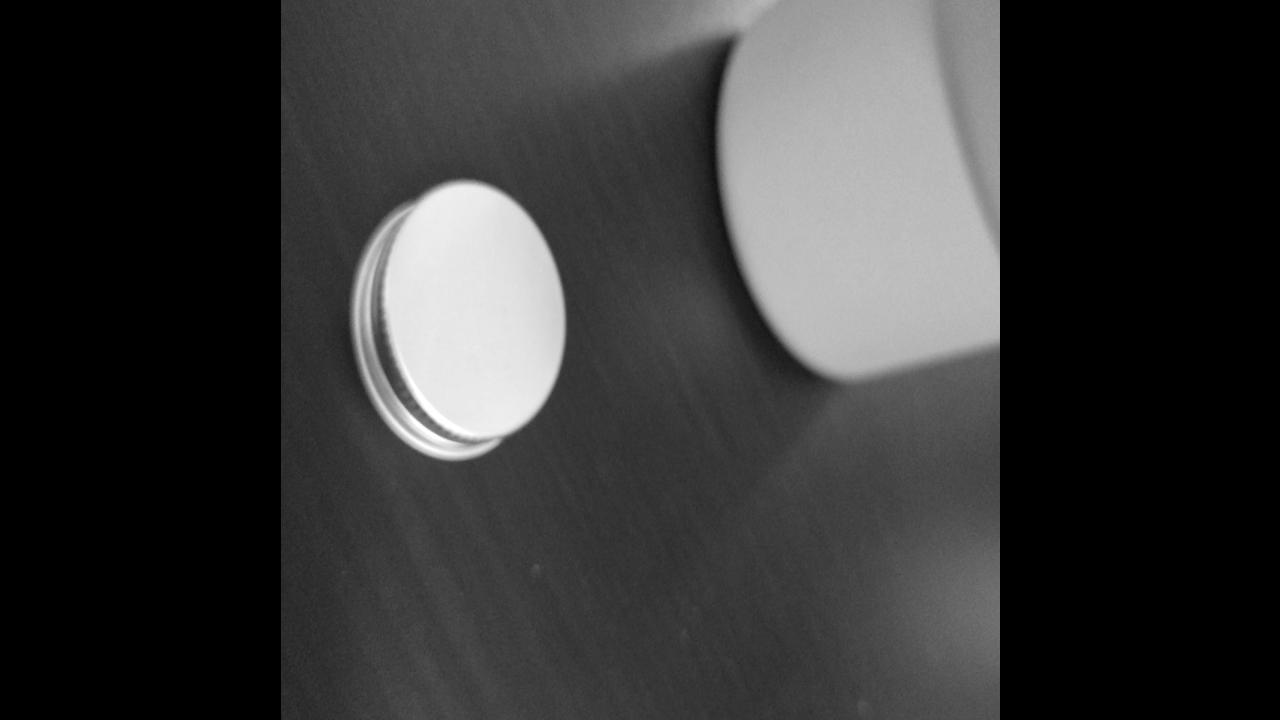bottle_cap: (346, 173, 574, 465)
